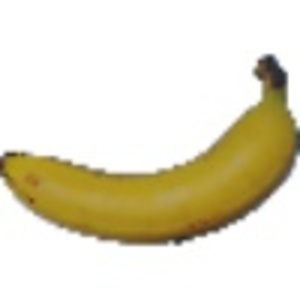banana: (2, 46, 297, 248)
